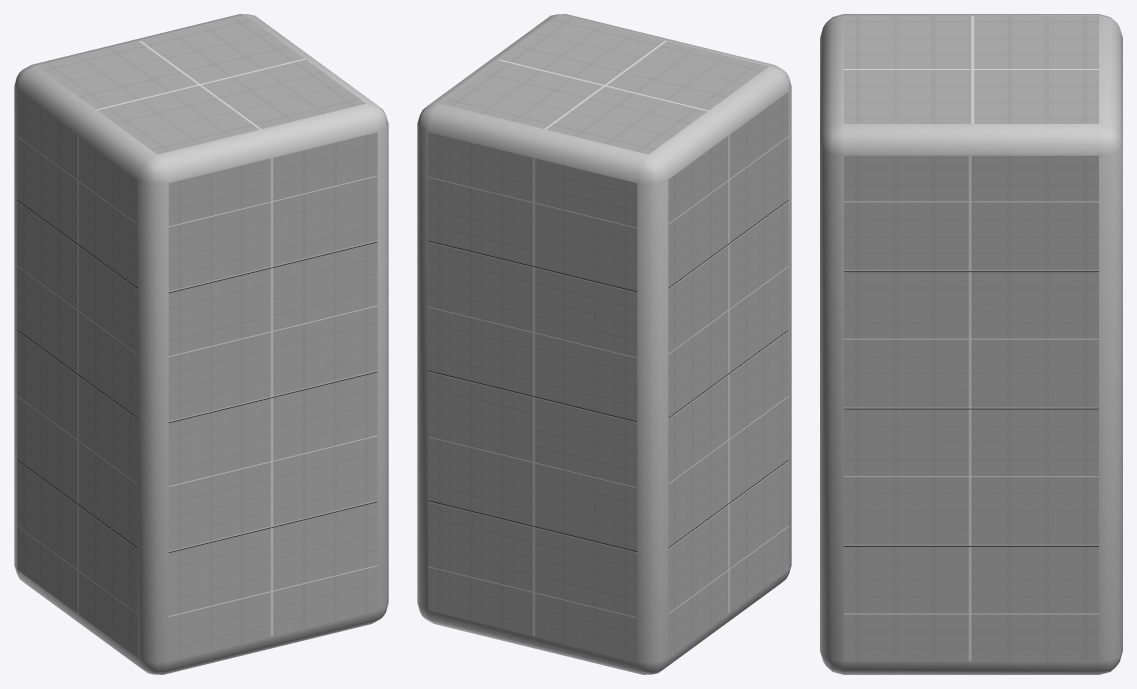
File: tile_pillar-md.obj
3 views of the same model, side by side, from view 1: azimuth 30°, elevation 25°; view 2: azimuth 150°, elevation 25°; view 3: azimuth 270°, elevation 25° (orthographic). The views are drawn at different scales.
Parts seen in each view (by area): view 1: Cube; view 2: Cube; view 3: Cube.
Part boxes in pixels (x1,y1,x2,y2): Cube: (14,14,388,674); Cube: (417,14,791,674); Cube: (820,14,1122,674).
Size of the model in its own units: 8 by 16 by 8.
